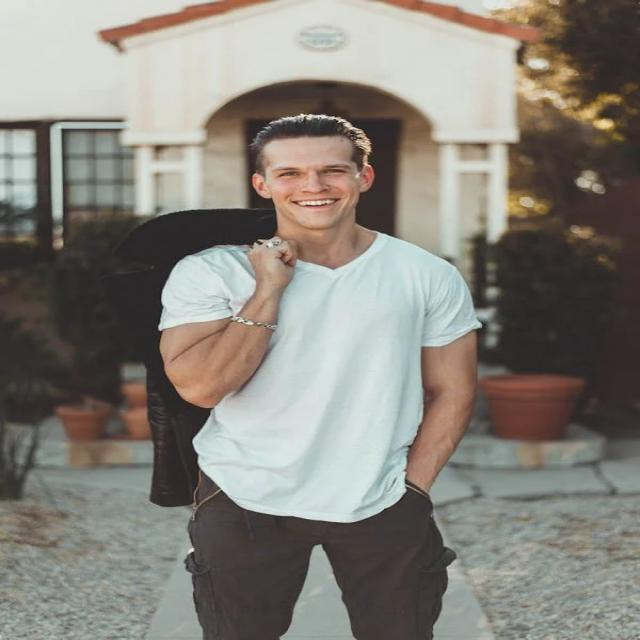Real human 2: (128, 108, 528, 640)
